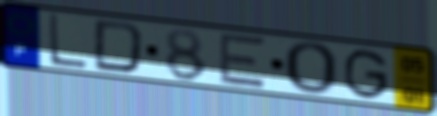8: (163, 26, 209, 83)
D: (92, 18, 148, 76)
E: (217, 31, 268, 90)
G: (341, 48, 391, 102)
L: (46, 11, 90, 71)
O: (281, 40, 340, 98)
